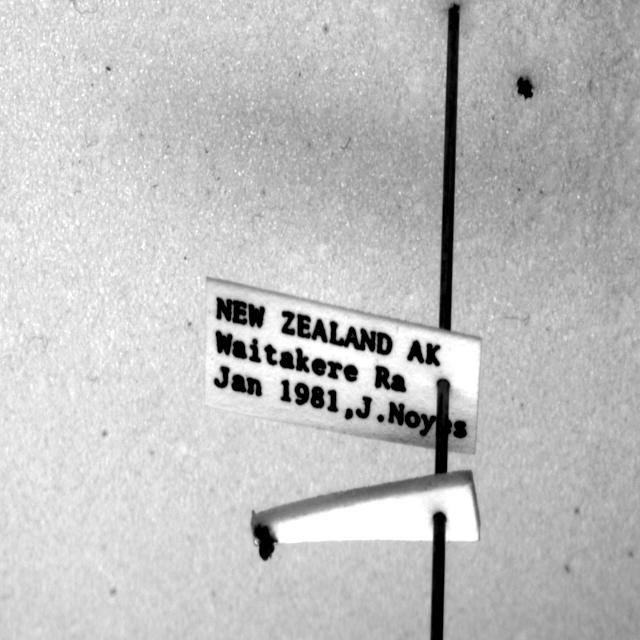typed_label: (205, 278, 481, 454)
